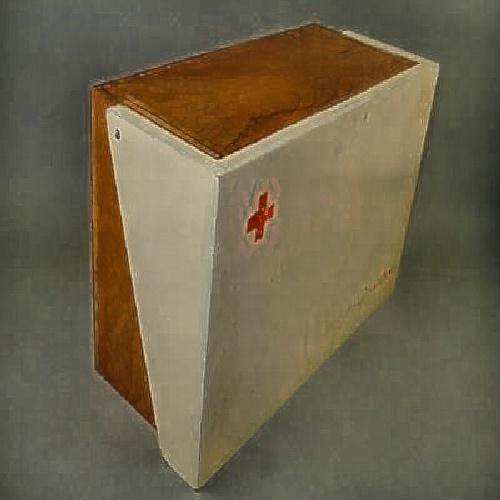cabinet: (81, 30, 442, 472)
